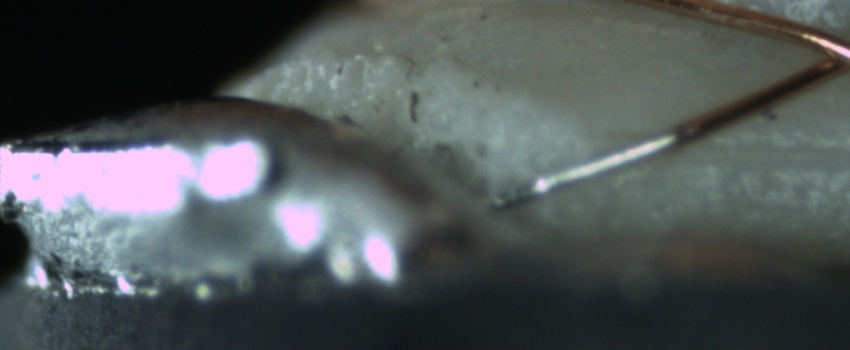CL: (794, 25, 850, 86)
DL: (632, 123, 850, 187)
TS: (486, 132, 681, 215)
